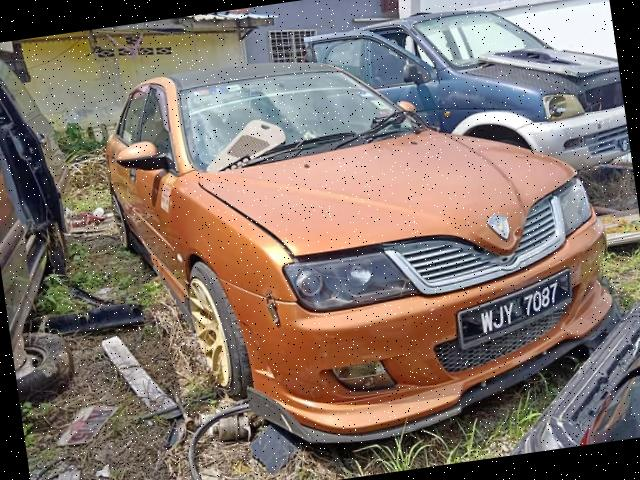License_Plate: (466, 272, 570, 350)
car: (83, 14, 633, 465), (297, 1, 634, 219)
